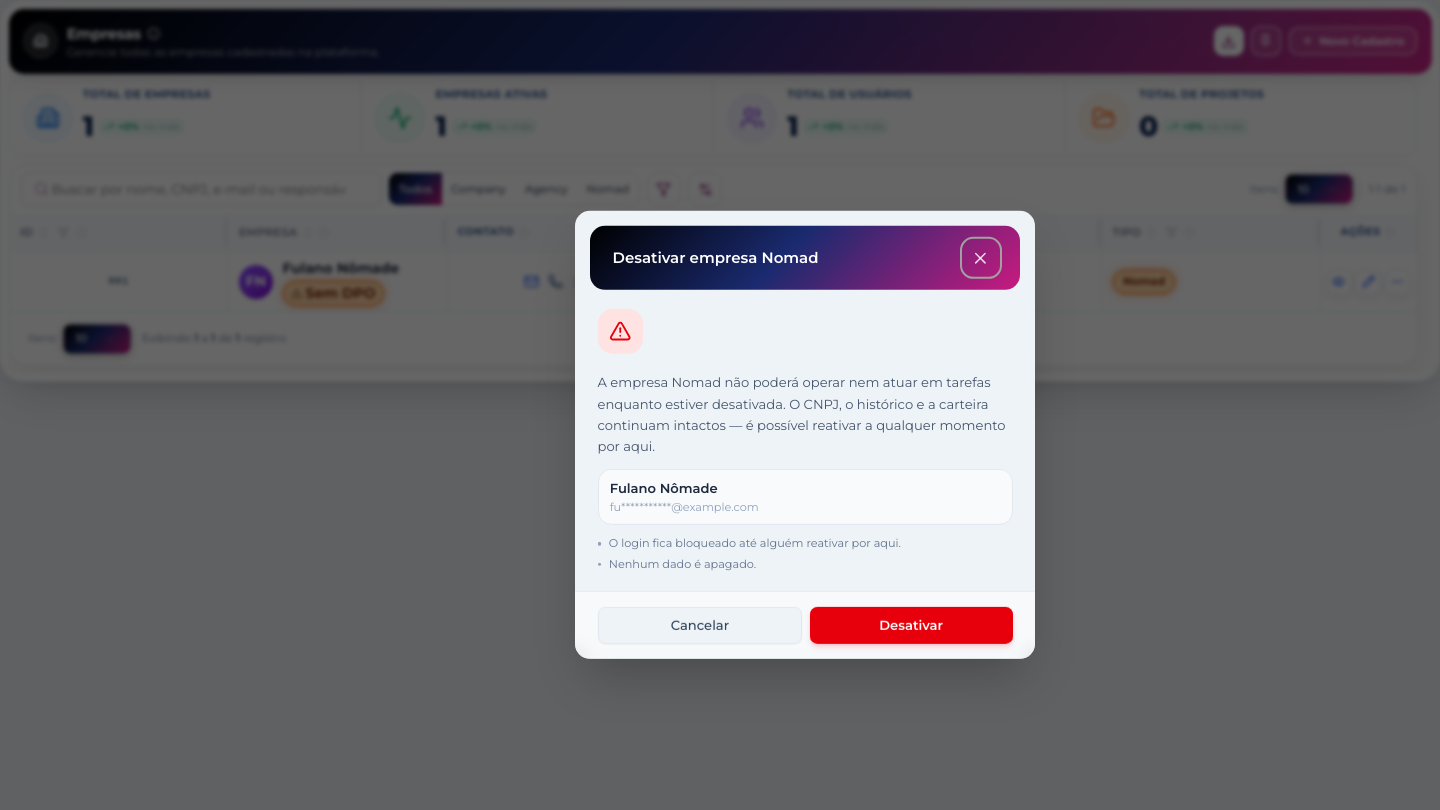
admin/empresas — empresa Nomad: desativar/reativar (reversível) › 2/3. abrir a confirmação mostra nome, e-mail mascarado e a consequência; cancelar não altera
Earlier steps of the test are not shown.
Expected: the text "fu***********@example.com" is shown, [610,500,759,514]
Expected: the text "O login fica bloqueado até alguém reativar por aqui." is shown, [609,536,901,551]
Click the button "Cancelar" at [700, 625], box [598,607,802,644]
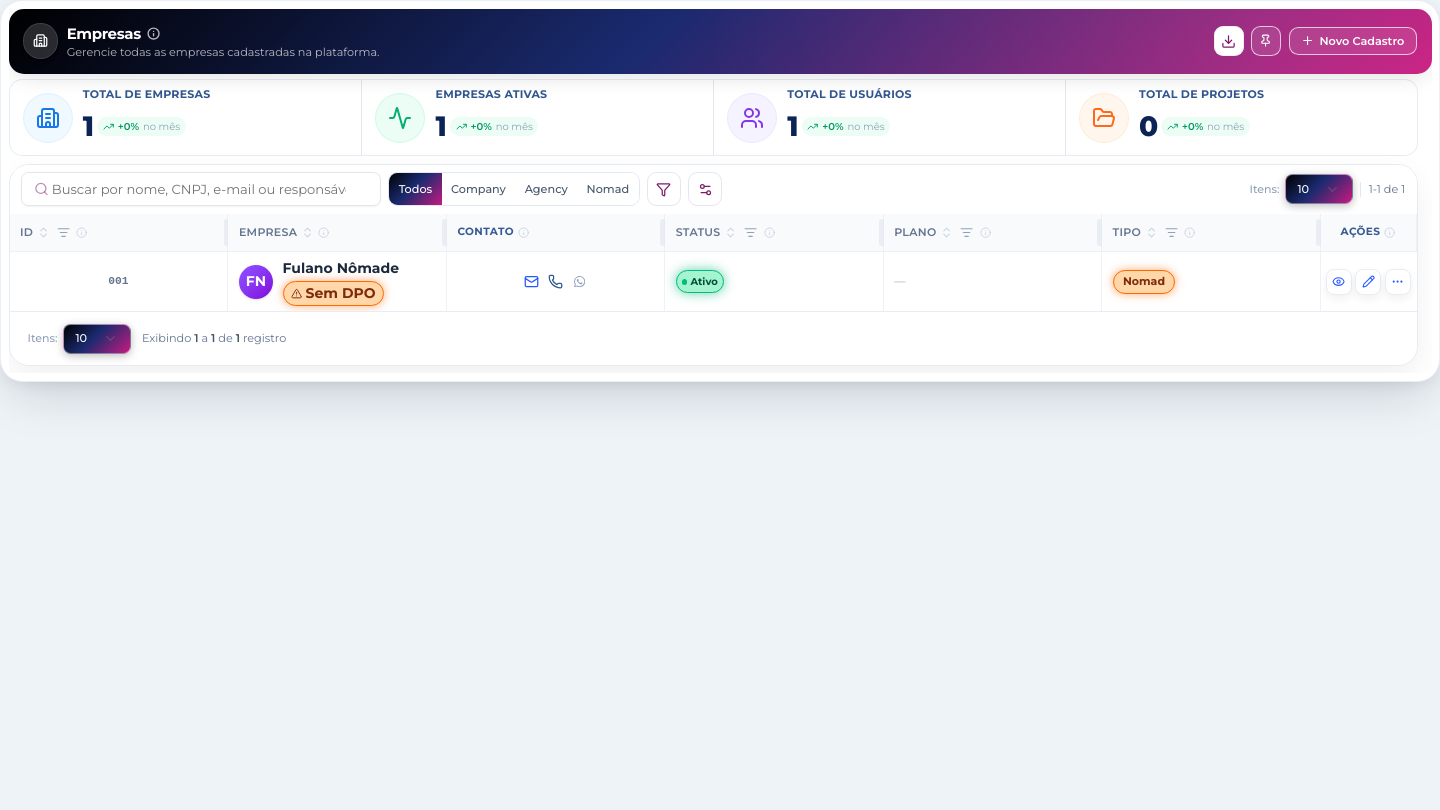
Expected: the text "login fica bloqueado" is gone
